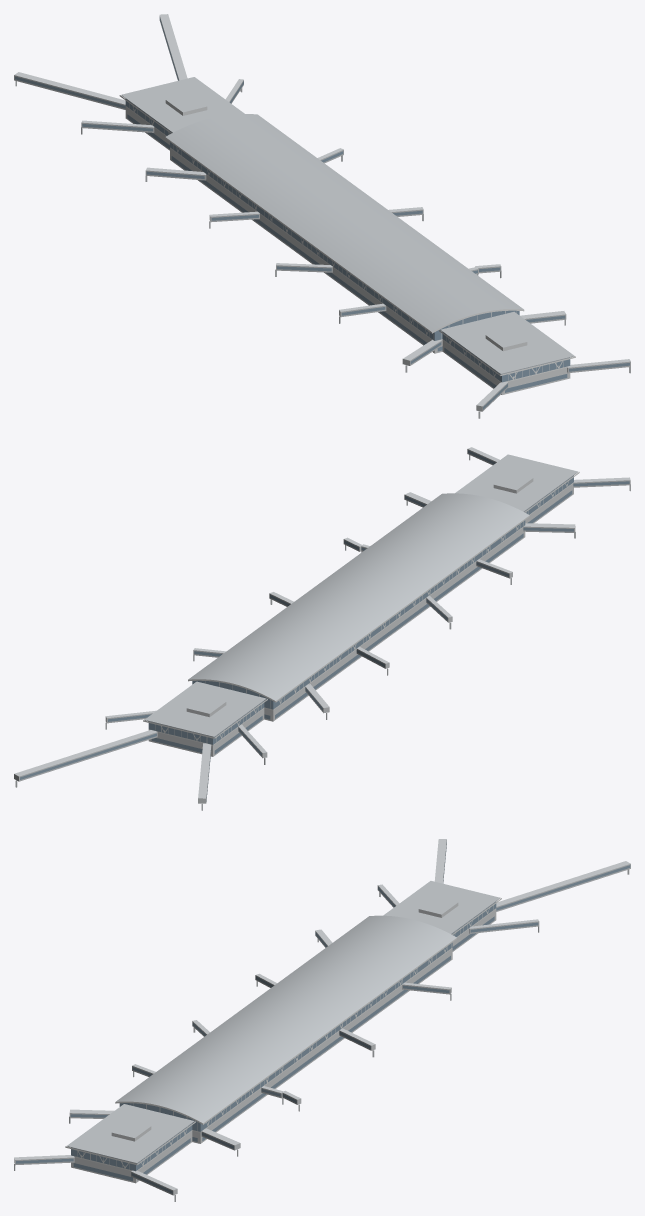
Rendered from london-heathrow-terminal-5b.detail.glb.
The picture shows the model from 3 angles, top to bottom: view 1: azimuth 30°, elevation 25°; view 2: azimuth 150°, elevation 25°; view 3: azimuth 330°, elevation 25°; orthographic projection. The views are drawn at different scales.
Visible parts, largest first — view 1: Heathrow Terminal 5B; view 2: Heathrow Terminal 5B; view 3: Heathrow Terminal 5B.
Boxes of the visible parts, x1=… form: Heathrow Terminal 5B: x1=14, y1=14, x2=630, y2=418; Heathrow Terminal 5B: x1=14, y1=447, x2=630, y2=810; Heathrow Terminal 5B: x1=14, y1=839, x2=630, y2=1201.
Bounding box in the file's own units: 118 × 19.5 × 553.
